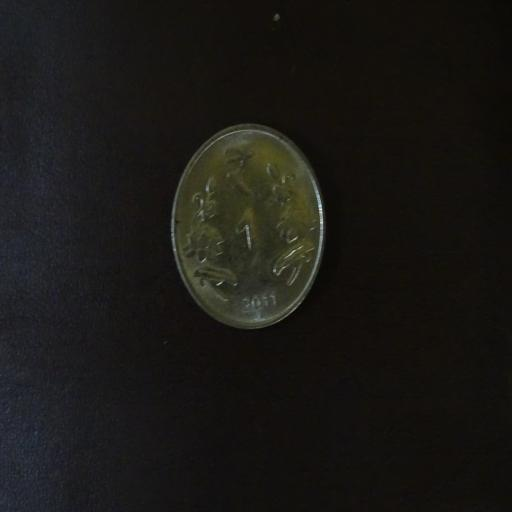rupee1: (169, 125, 328, 329)
